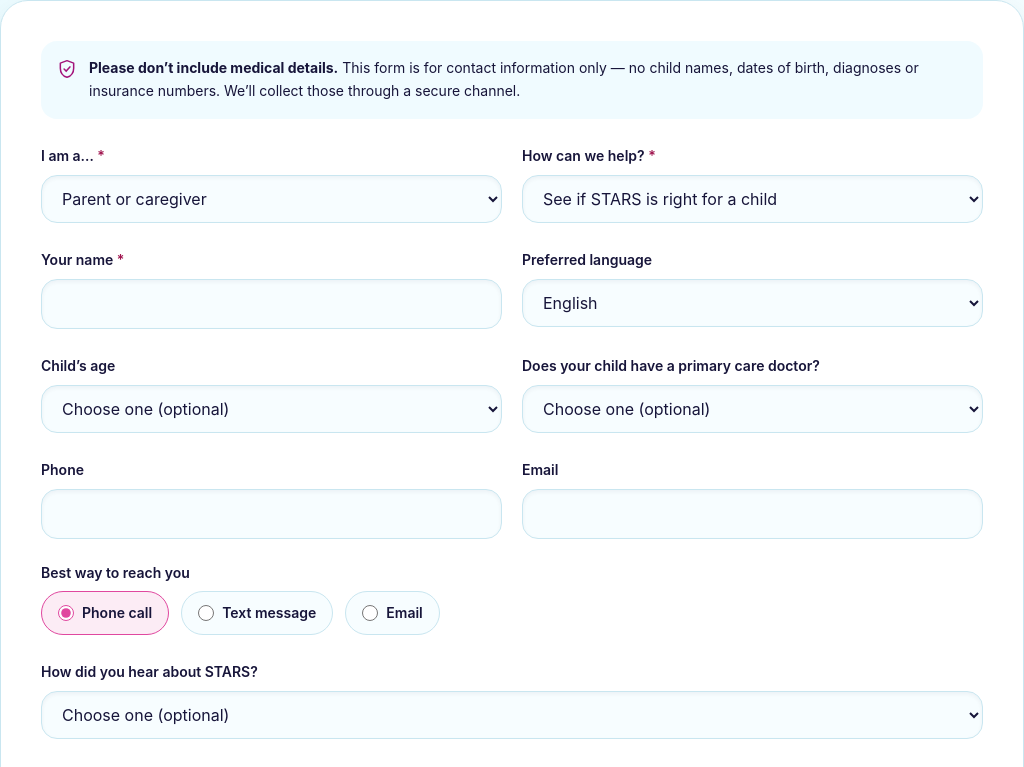
Test: <InquiryForm /> › submits valid data as JSON and shows a success state
The image size is (1024, 767).
Type "Jordan Parker" into the field labelled "Your name *" at (272, 304), box [41, 278, 502, 328]
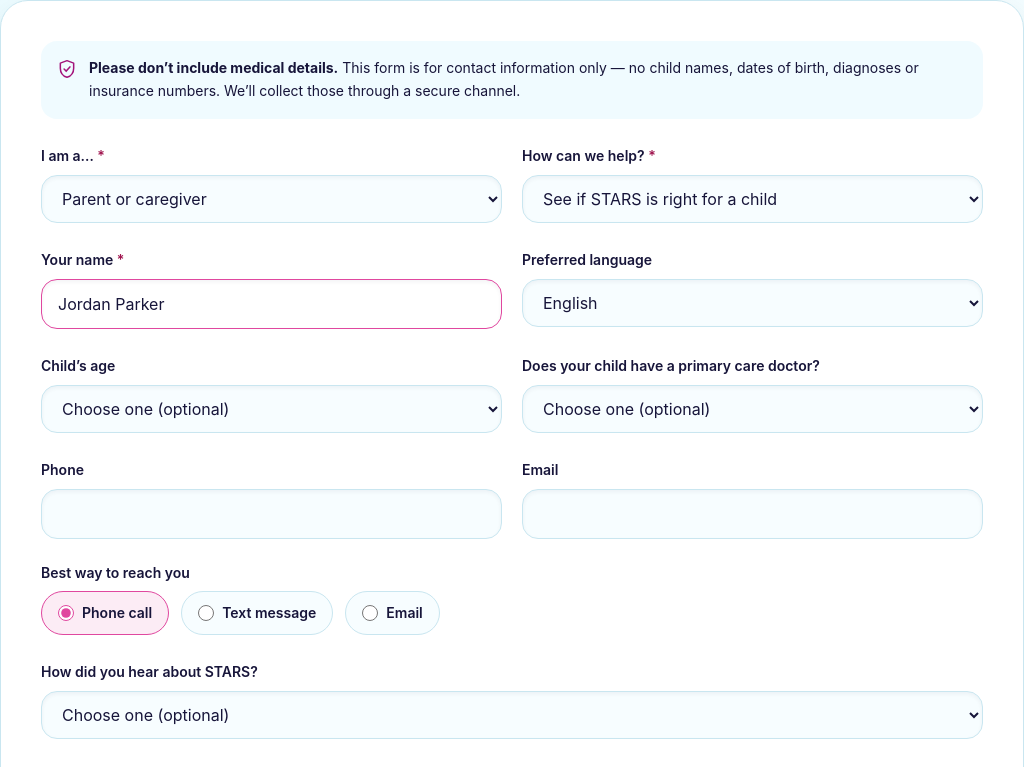
Type "870-555-0134" into the field labelled "Phone" at (272, 514), box [41, 488, 502, 538]
(page scrolled)
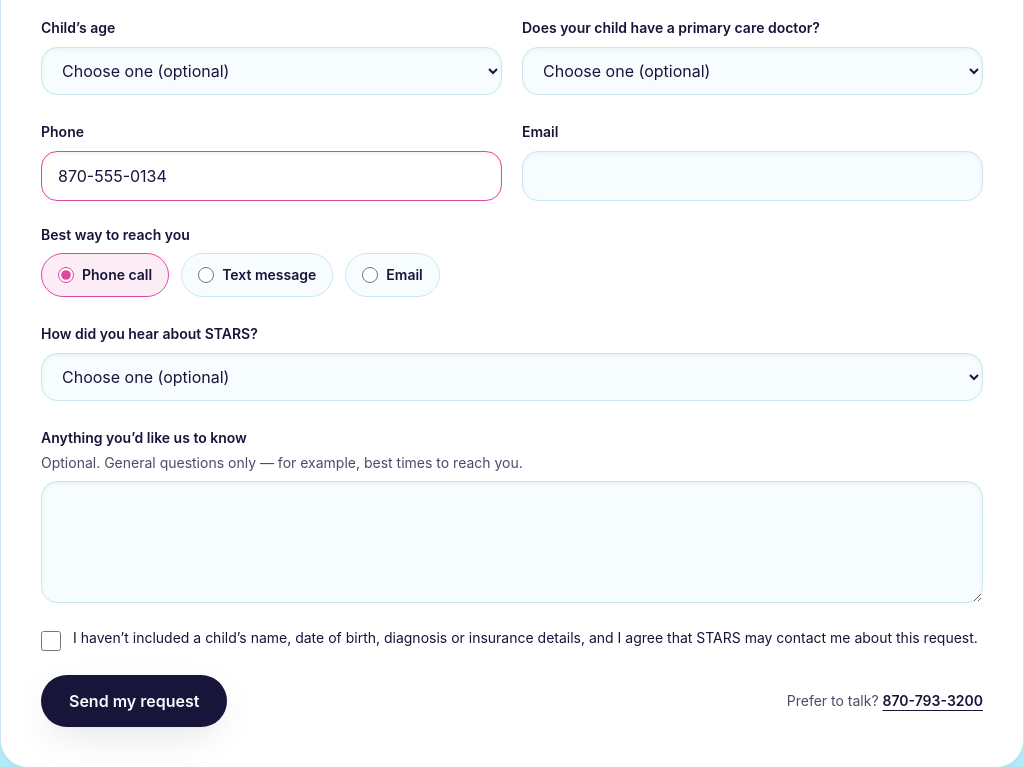
Click the checkbox at (51, 640), box [41, 630, 61, 650]
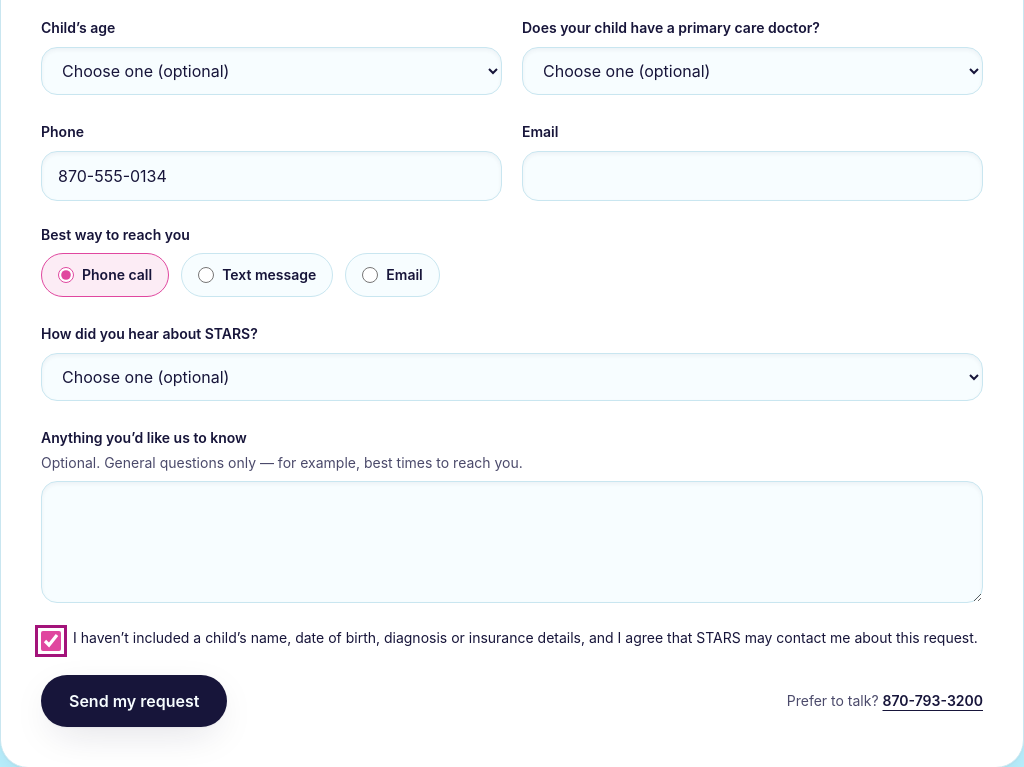
Click the button "Send my request" at (134, 700), box [41, 674, 227, 726]
(page scrolled)
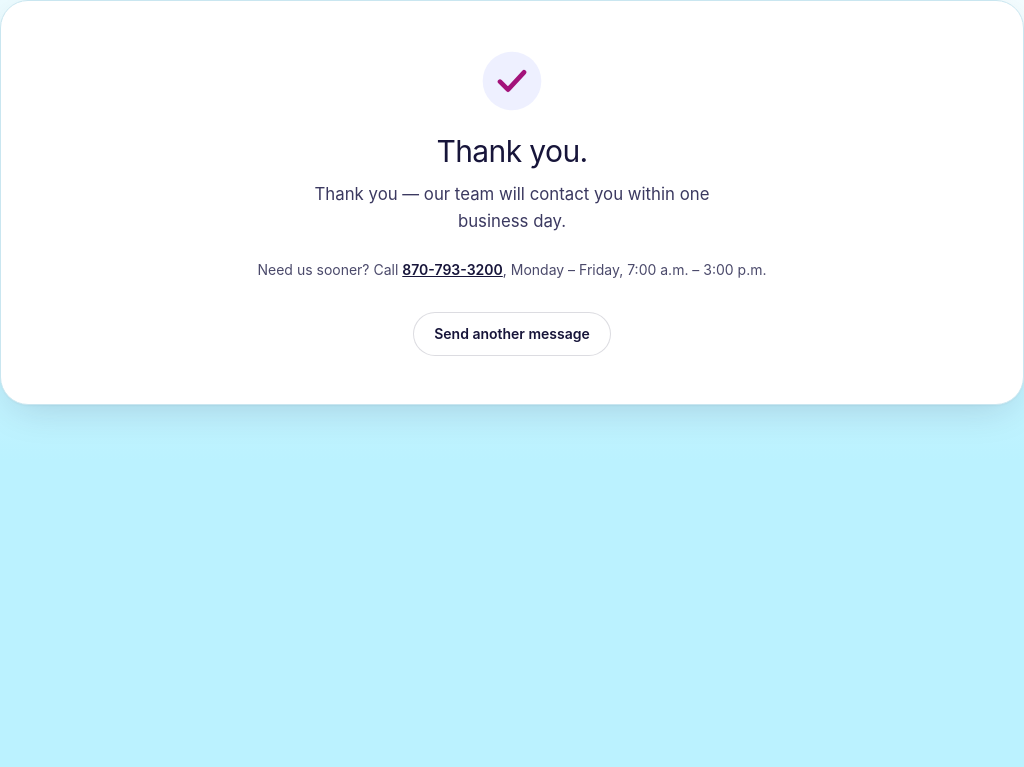
Result: the message shows "one business day" at [314, 184, 710, 231]
